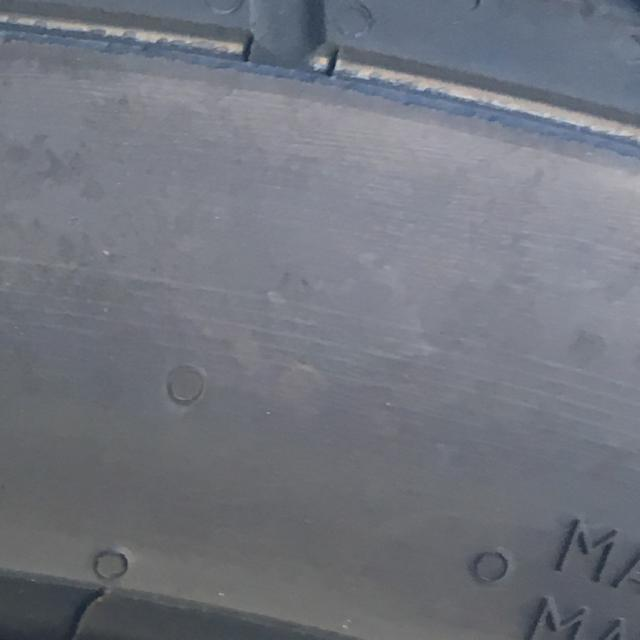Non-defective: (0, 0, 639, 637)
